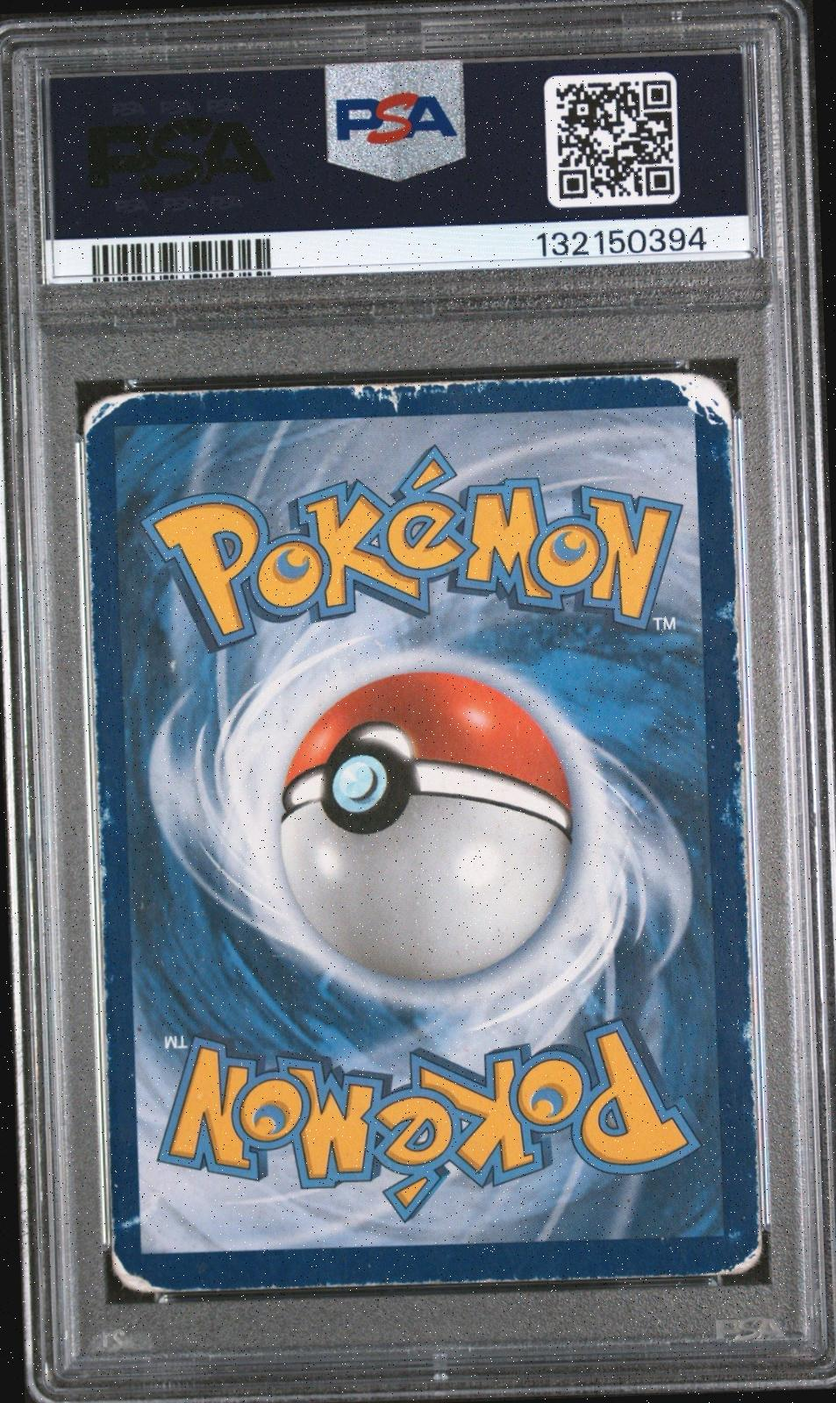card-2UtV: (81, 372, 763, 1294)
